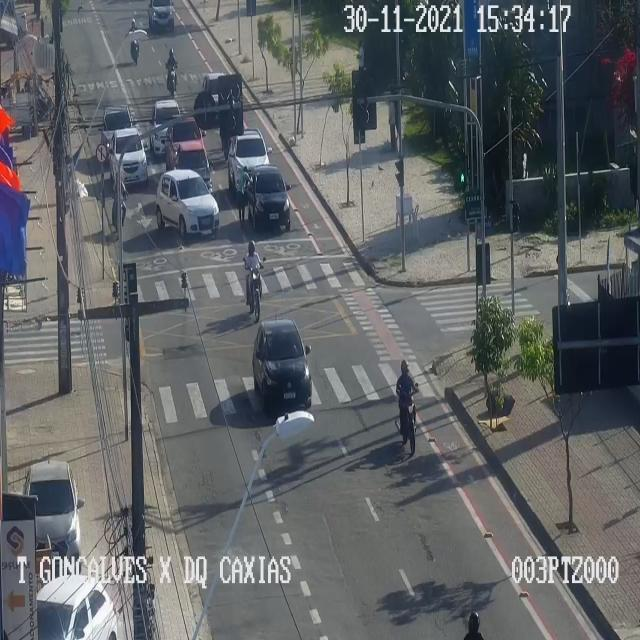Car: (26, 461, 84, 570), (252, 319, 313, 414), (38, 578, 118, 639), (155, 167, 218, 239), (228, 128, 272, 188), (166, 117, 208, 178), (251, 170, 291, 233), (109, 129, 149, 182), (98, 105, 136, 155), (150, 99, 185, 153), (146, 2, 174, 32)
Motorcycle: (396, 357, 419, 455), (243, 242, 266, 317), (164, 47, 178, 100), (125, 20, 140, 66)
